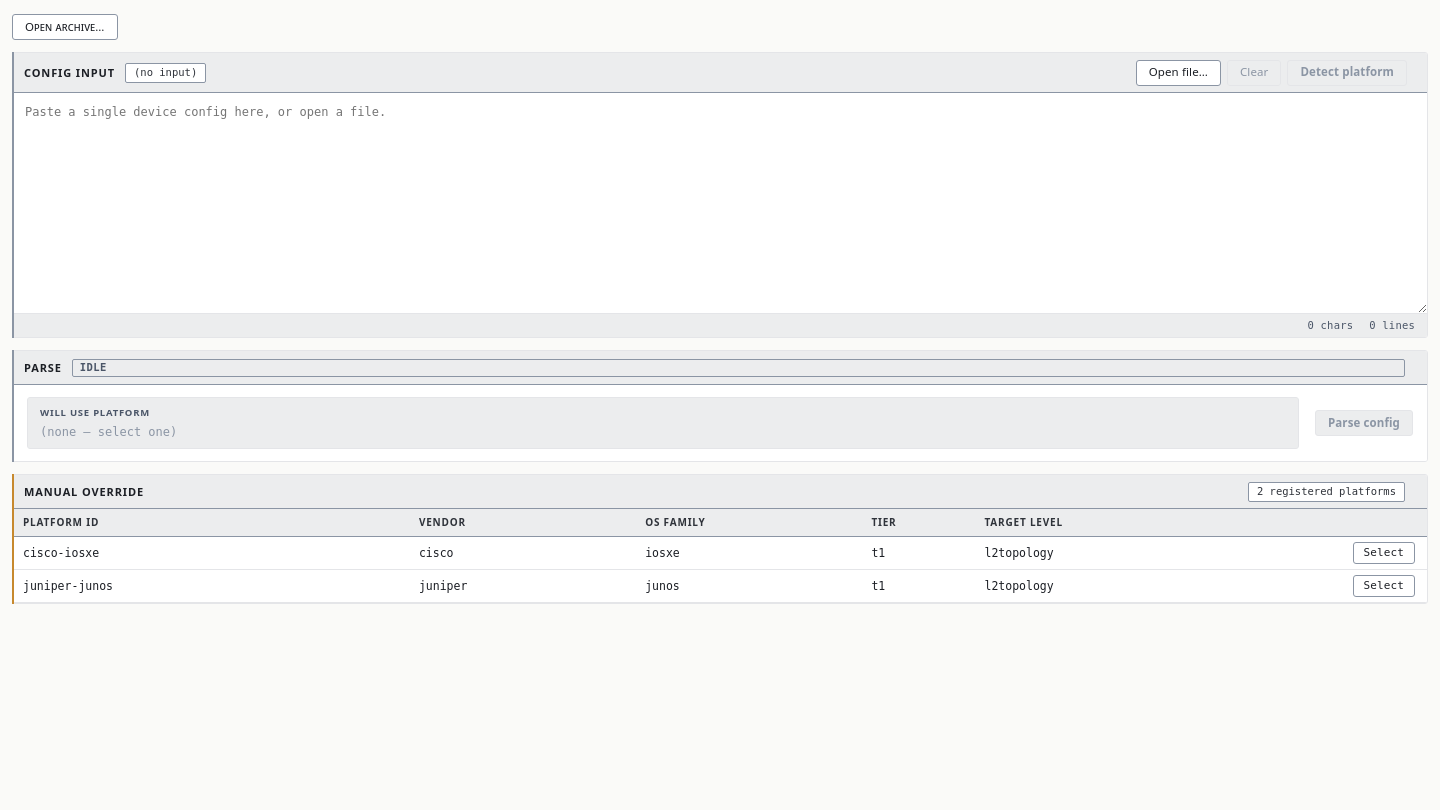
it: IntakePanel × V1Q BatchRun › drill-down after Analyse uses stored results (no re-parse, no re-validate)
Type "x" into the text box named "Config text" at (720, 203), box [13,93,1427,313]
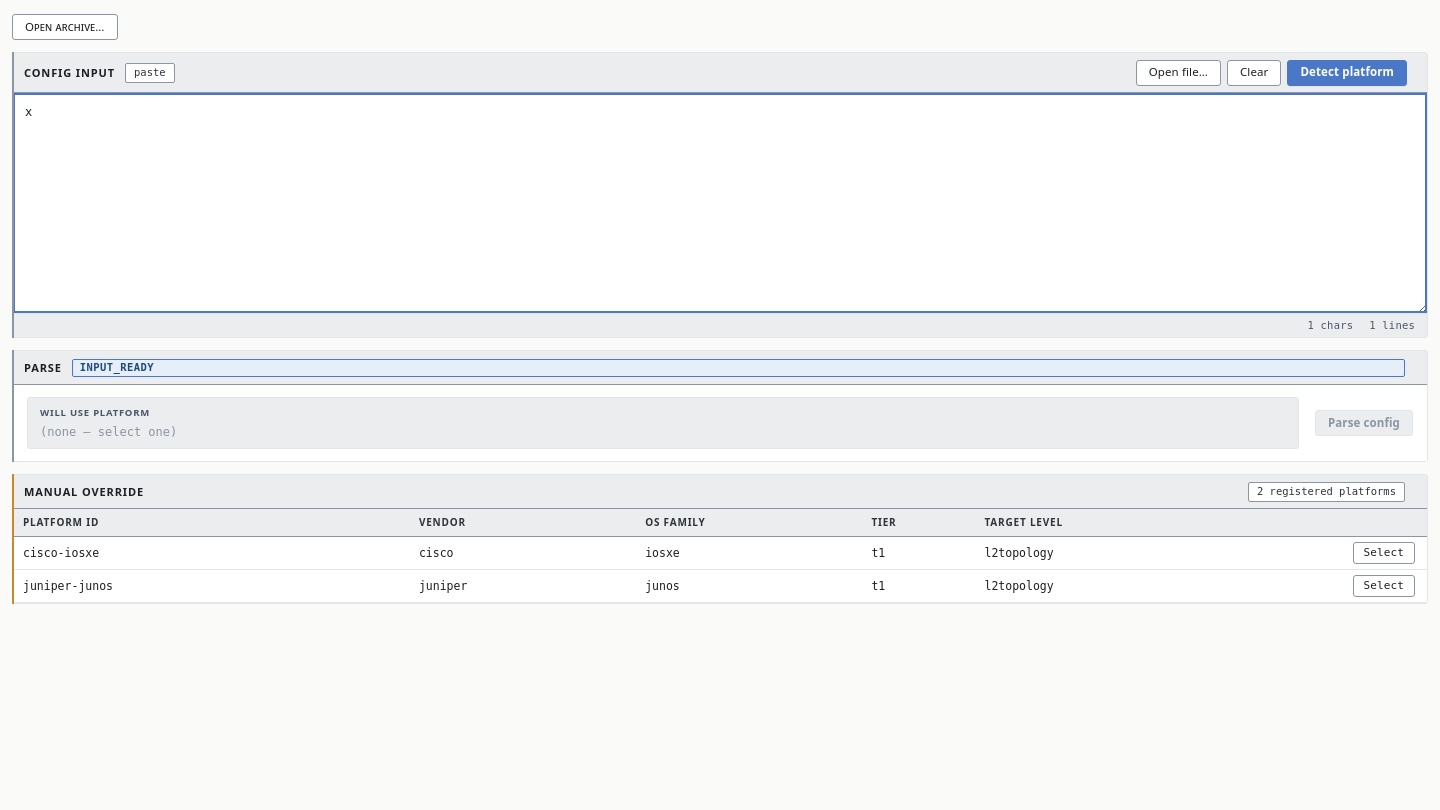
Click the button "Detect platform" at (1347, 72), box [1288,60,1407,86]
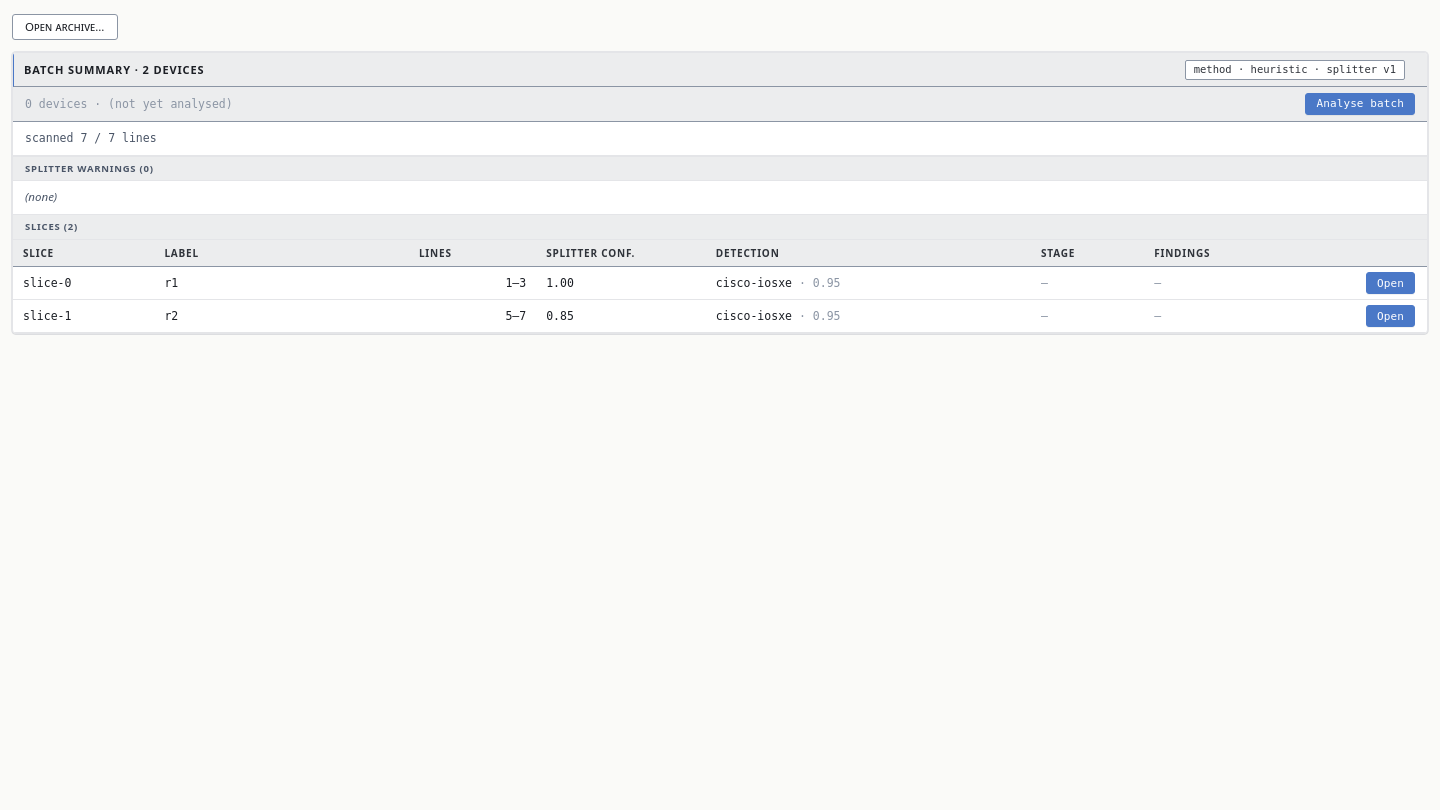
Expected: the element labelled "BATCH SUMMARY" is shown, [12,52,1428,334]
Click the button "Analyse batch" at (1360, 104), box [1306,93,1415,115]
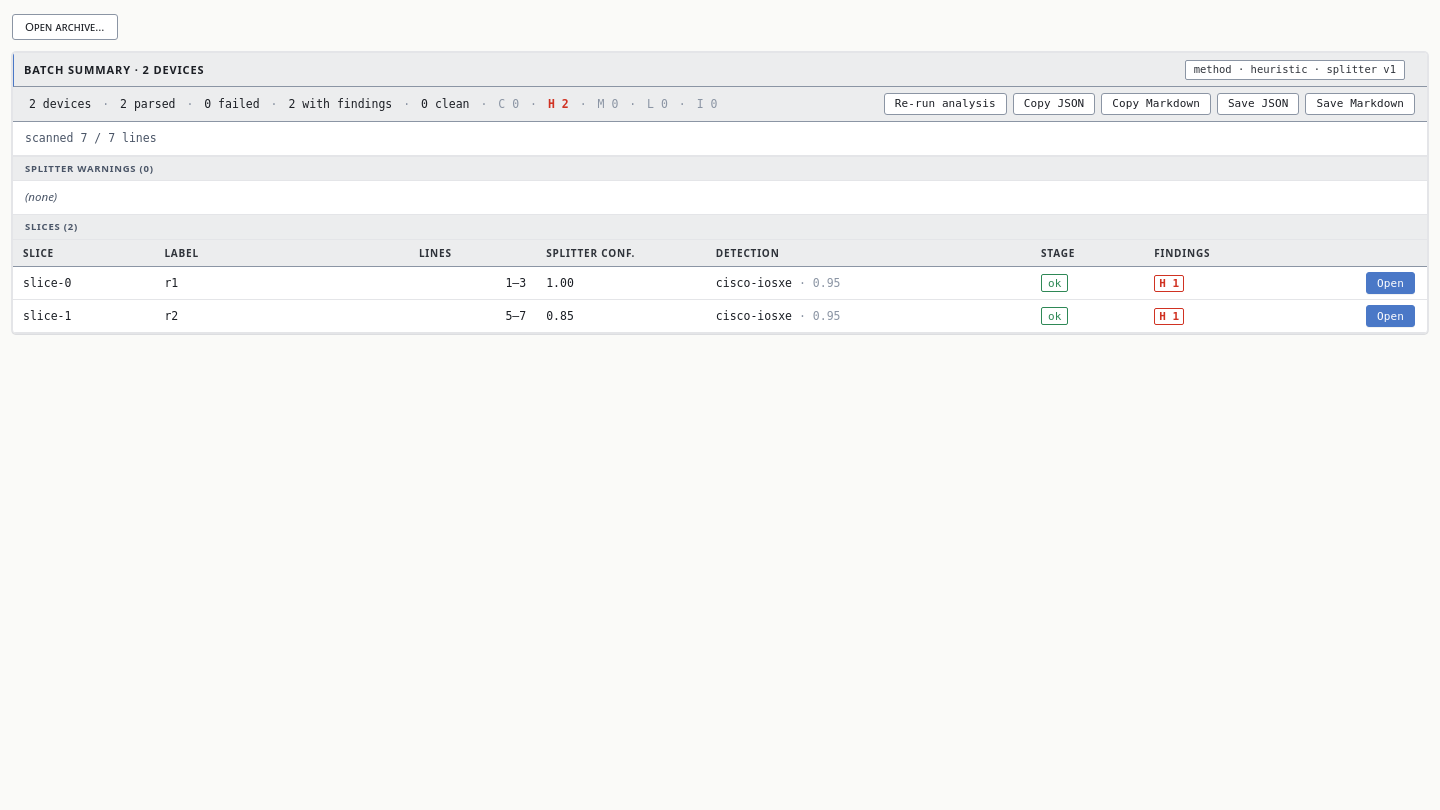
Click the button with aria-label "Open slice-0" at (1391, 283), box [1366,272,1415,294]
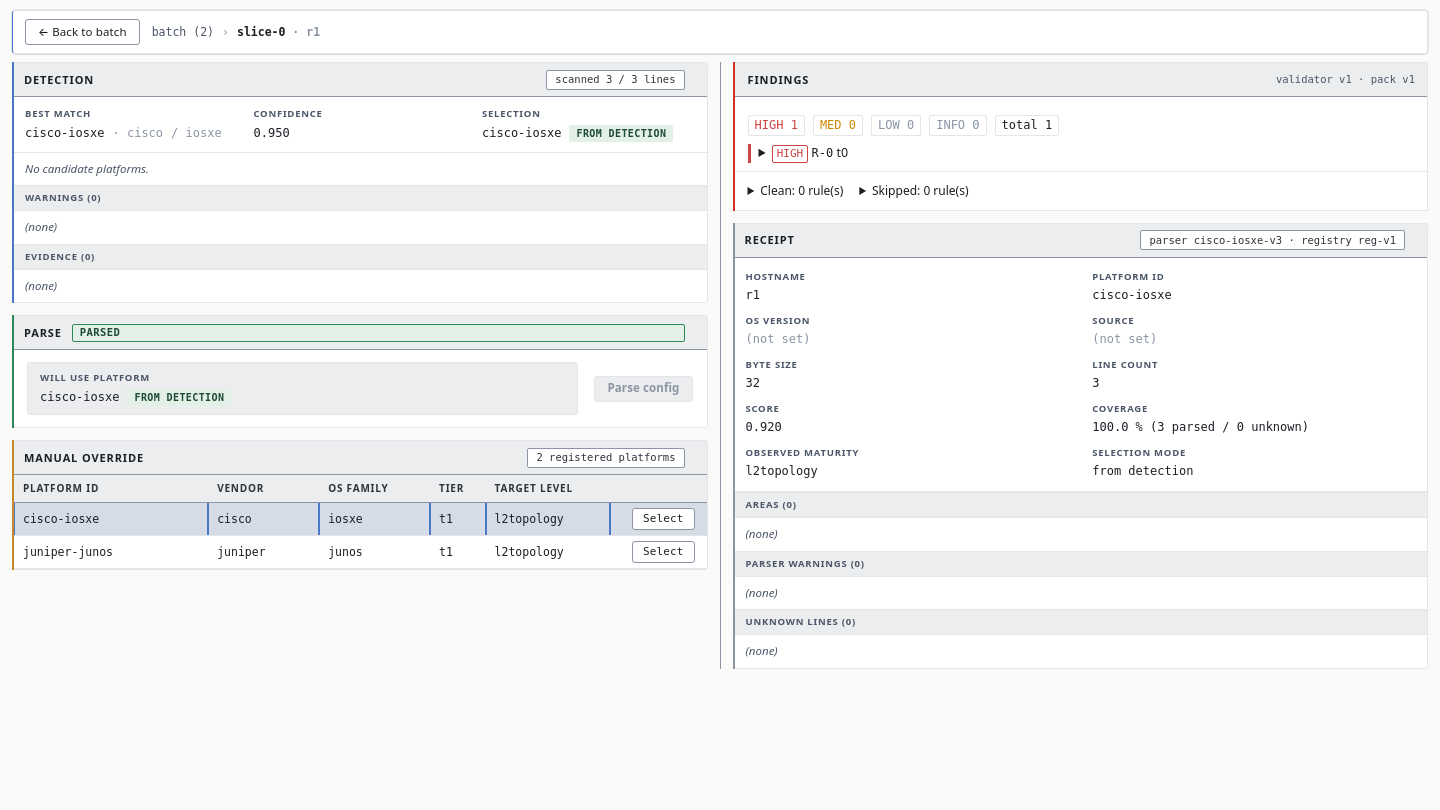
Expected: the element named "Validation findings" is shown, [732,62,1428,211]
Expected: the element named "Parse receipt" is shown, [732,223,1428,669]
